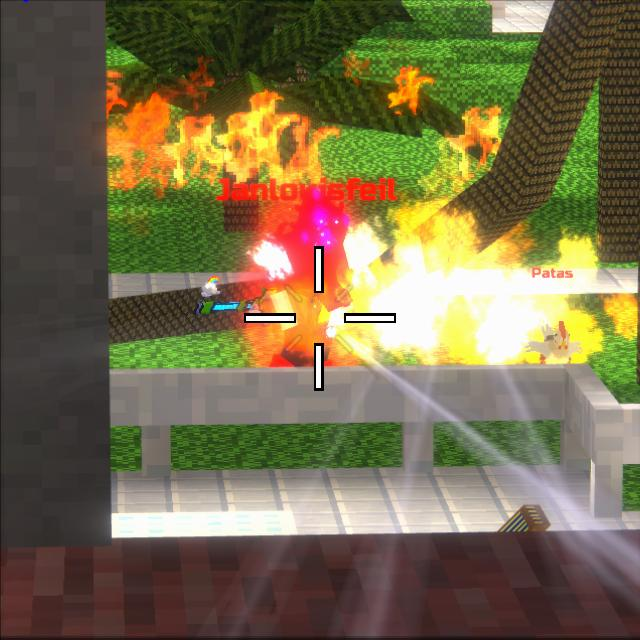Enemy: (252, 244, 325, 367)
